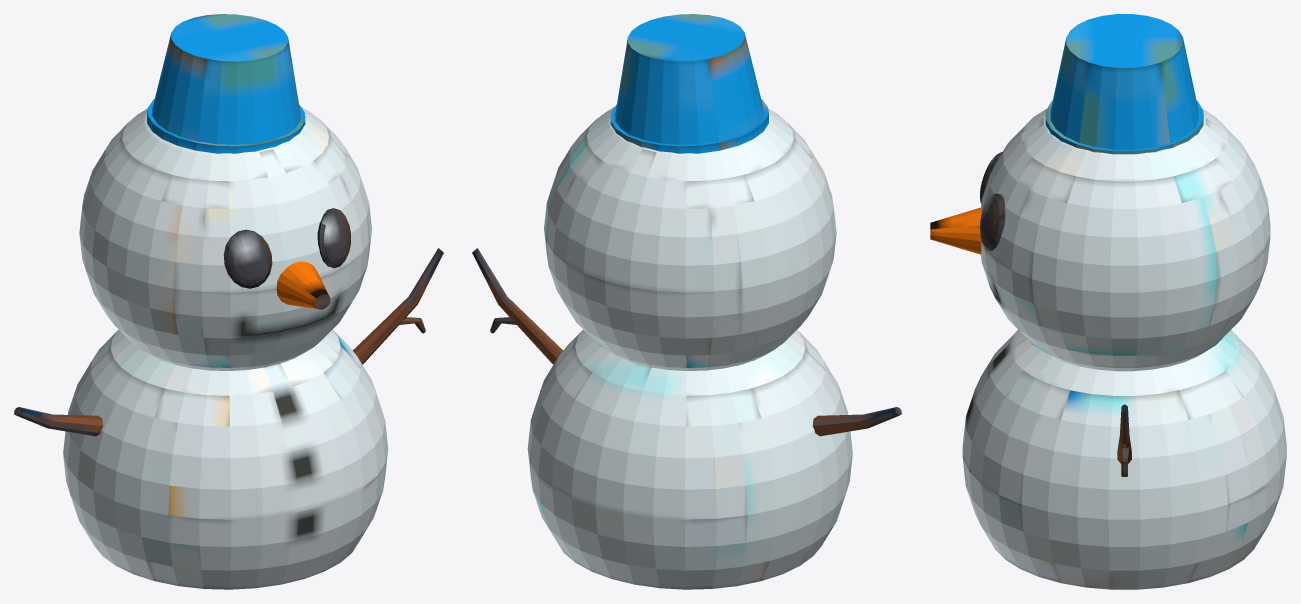
The model's file is n-snowman2.glb.
3 views of the same model, side by side, from view 1: azimuth 30°, elevation 25°; view 2: azimuth 150°, elevation 25°; view 3: azimuth 270°, elevation 25° (orthographic).
Parts seen in each view (by area): view 1: default; view 2: default; view 3: default.
Part boxes in pixels (<box>): default: <box>14,14,443,589</box>; default: <box>472,14,901,589</box>; default: <box>930,14,1286,589</box>.
Size of the model in its own units: 1.91 by 2.15 by 1.38.
Materials: 1 (1 with a texture image).
